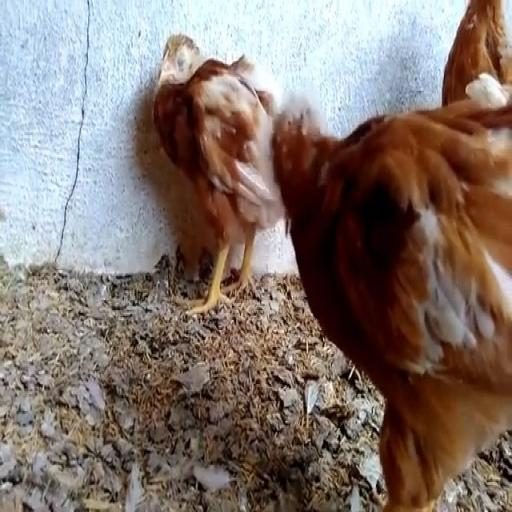disease: (152, 29, 207, 103)
